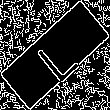L_NW: (28, 26, 82, 84)
